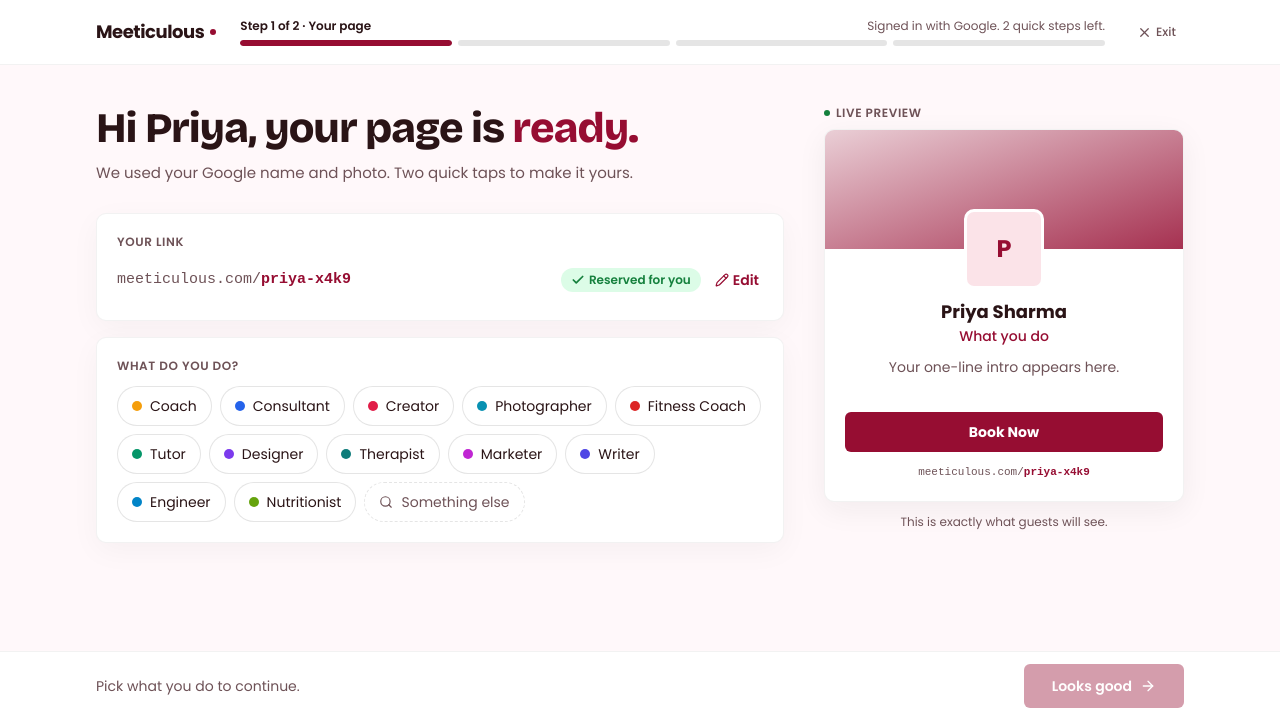
Test: PageStep — your page › editing the link: taken vs network error vs available
This screenshot has width=1280, height=720.
Click the button "Edit": (737, 280) [711,260,763,300]
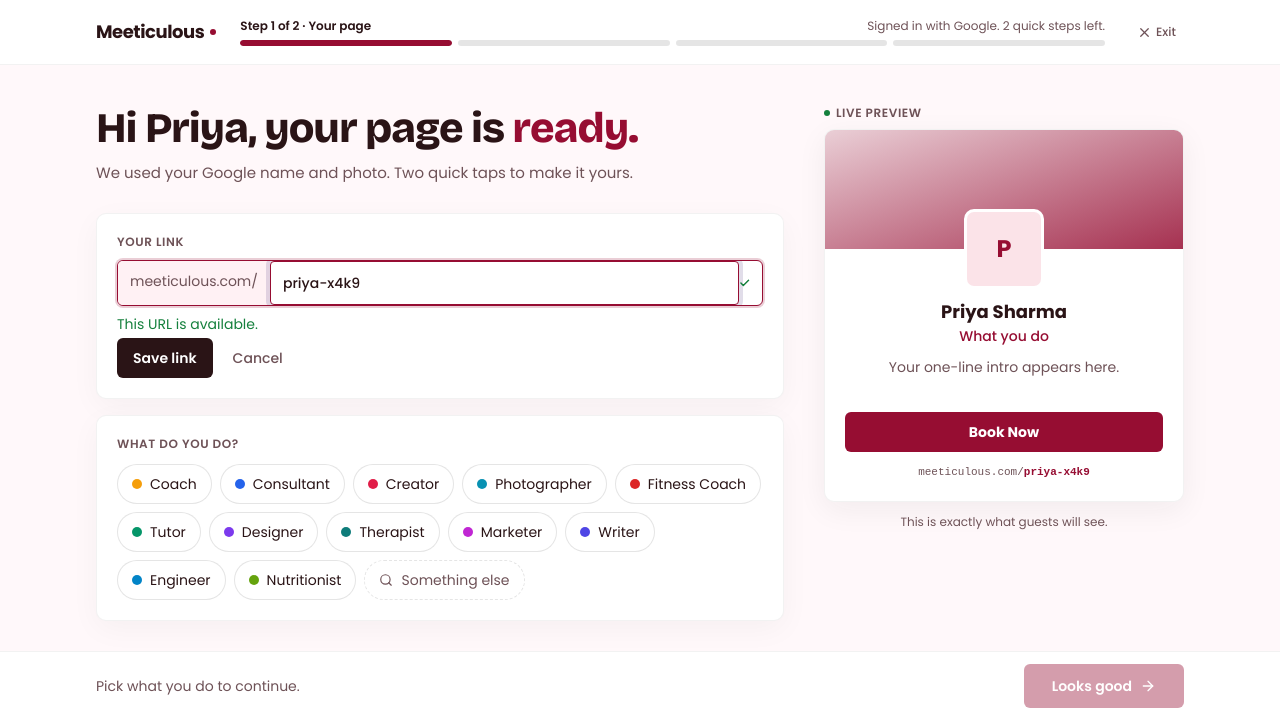
Replace the text in the field named "Your link" with "priya": (504, 283) [270,261,739,305]
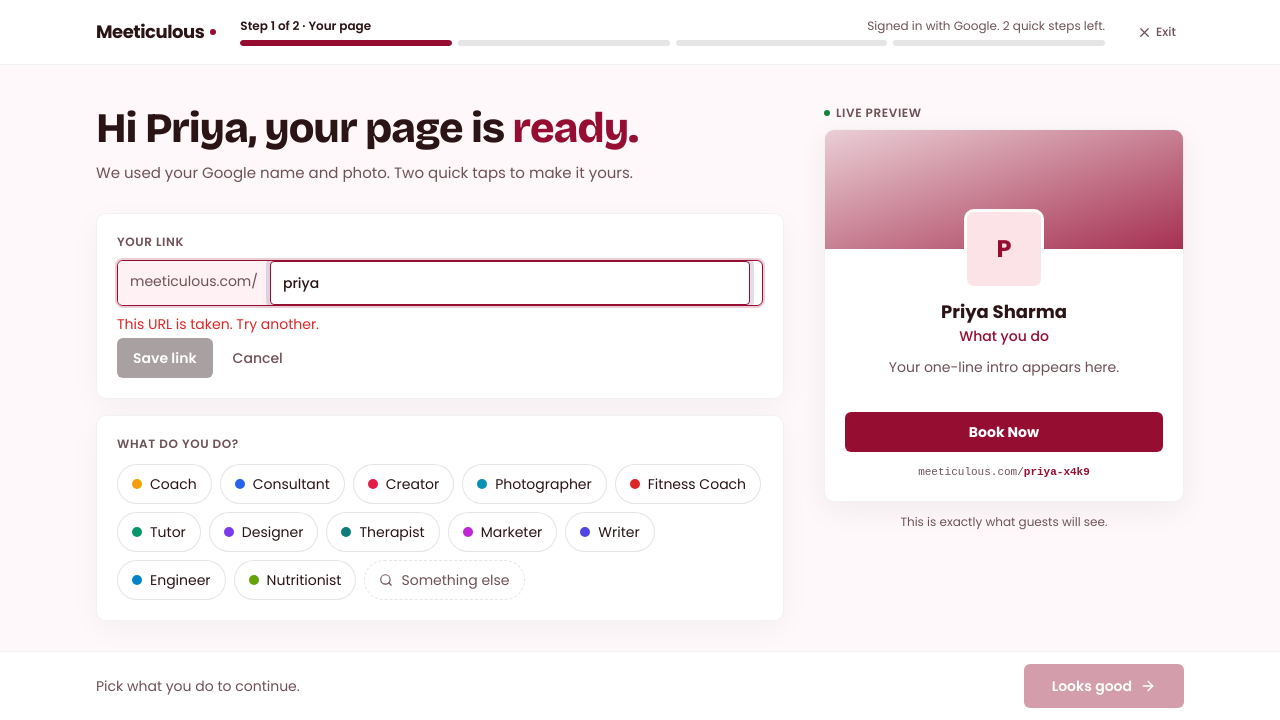
Expected: the text "This URL is taken. Try another." is shown, [117,314,319,334]
Replace the text in the field named "Your link" with "priya-2": (510, 283) [270,261,750,305]
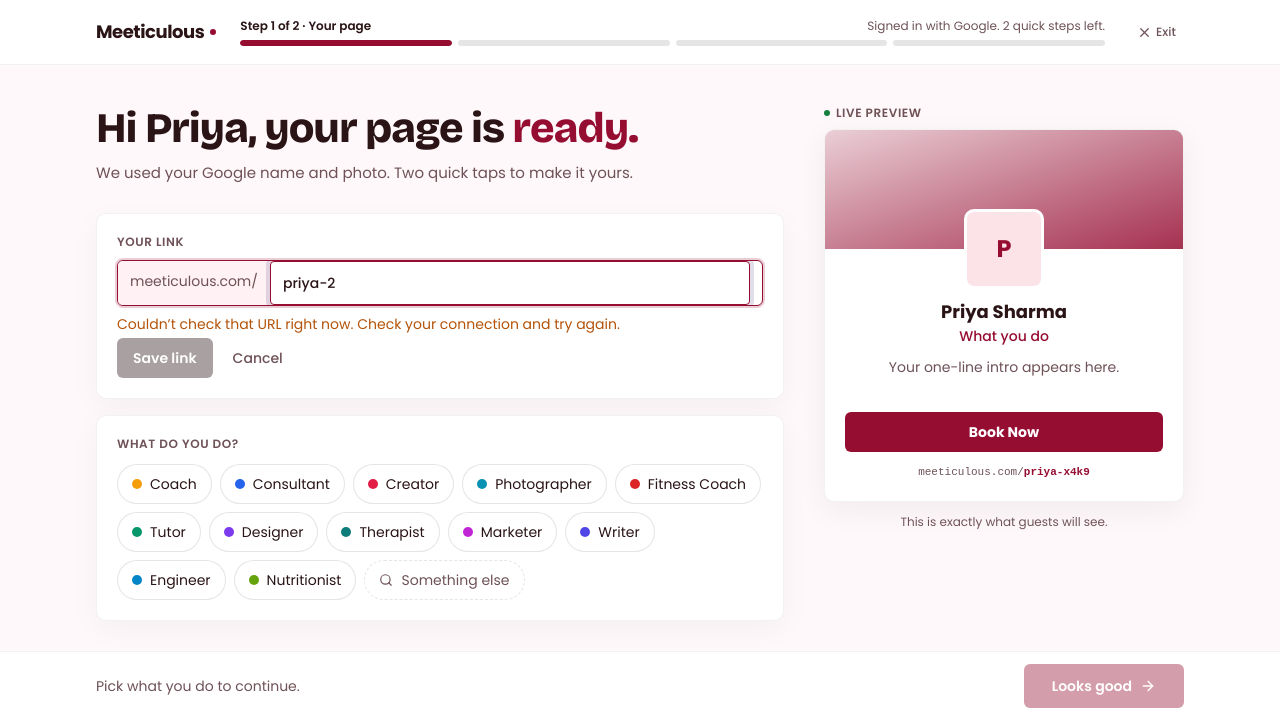
Expected: the text "taken" is gone
Replace the text in the field named "Your link" with "priya-coach": (510, 283) [270,261,750,305]
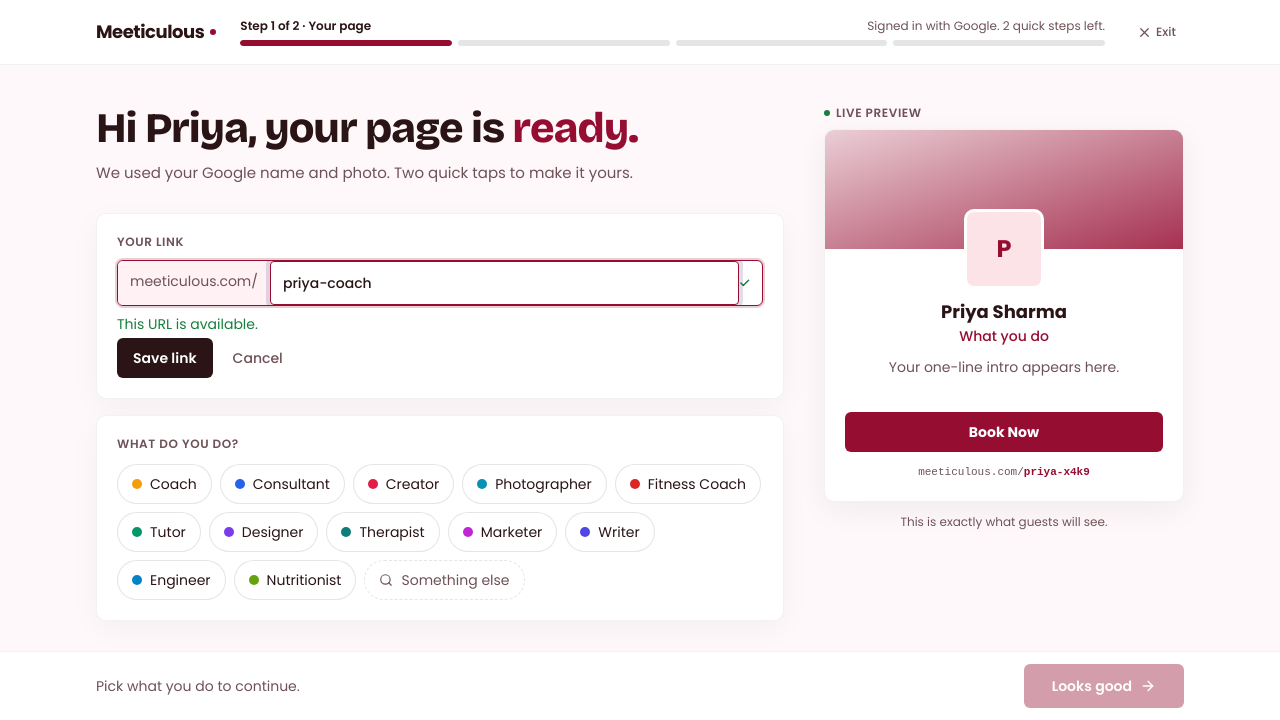
Expected: the button "Save link" is enabled
Click the button "Save link": (165, 358) [117,338,213,378]
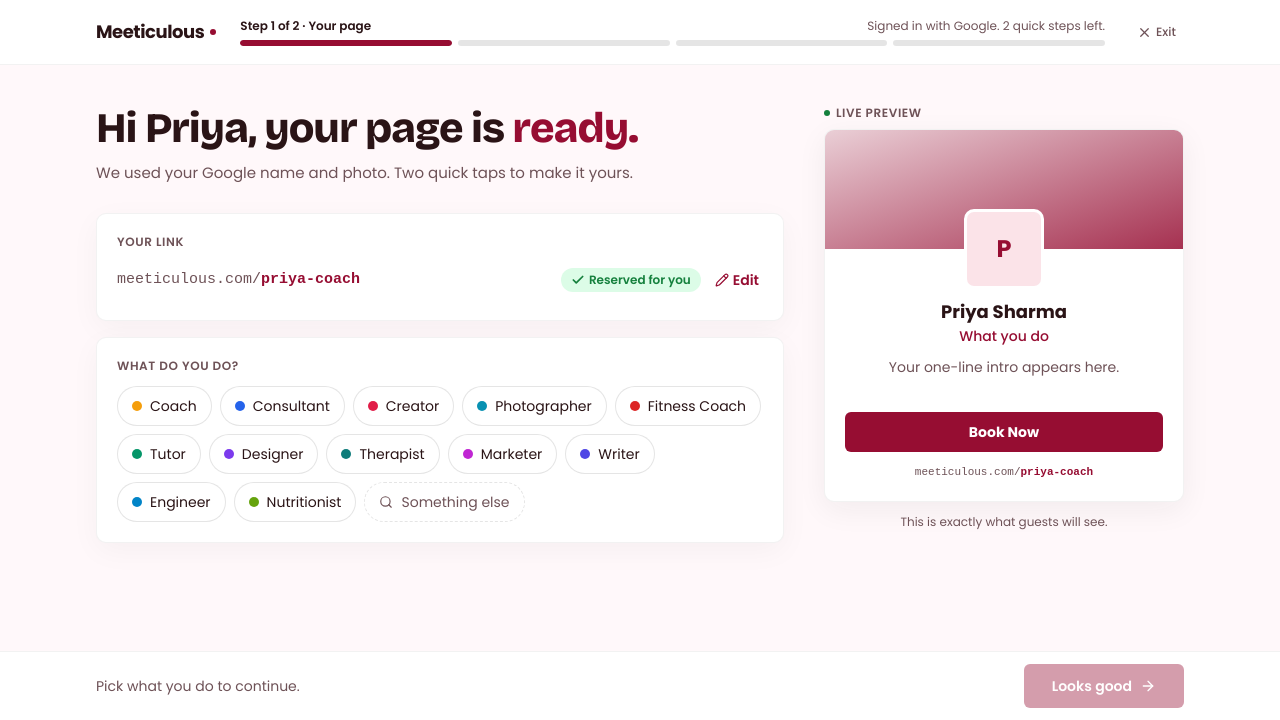
Expected: the text "priya-coach" in the row of "Reserved for you" is shown, [261,271,360,288]
